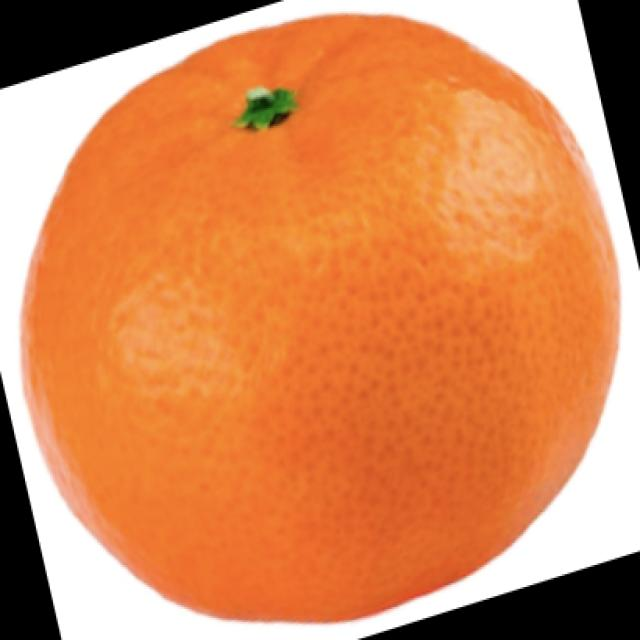matang: (21, 14, 618, 621)
